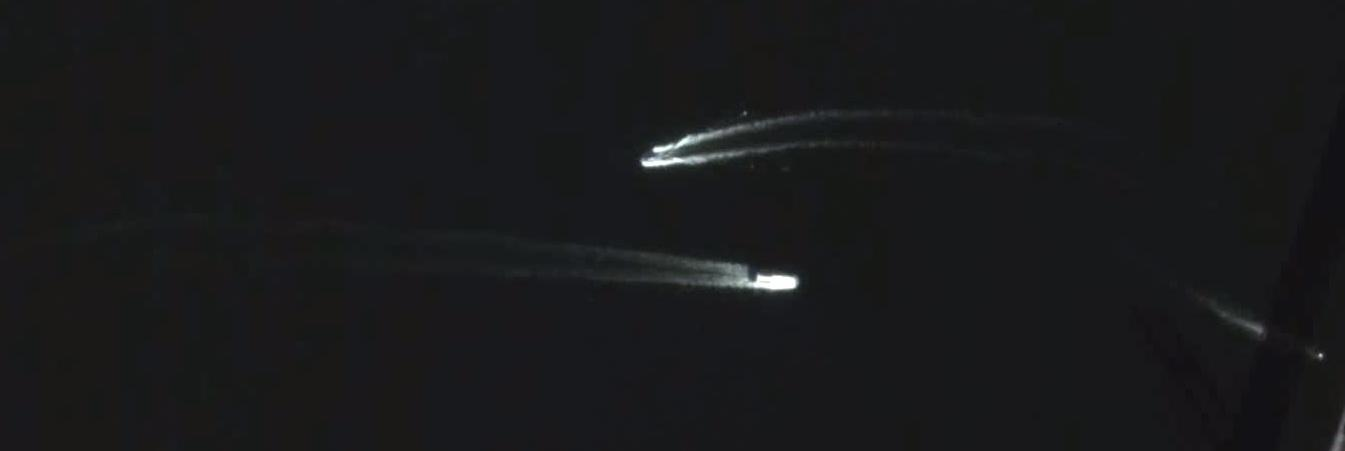person: (756, 274, 798, 290), (1303, 344, 1329, 364), (641, 152, 665, 160)
